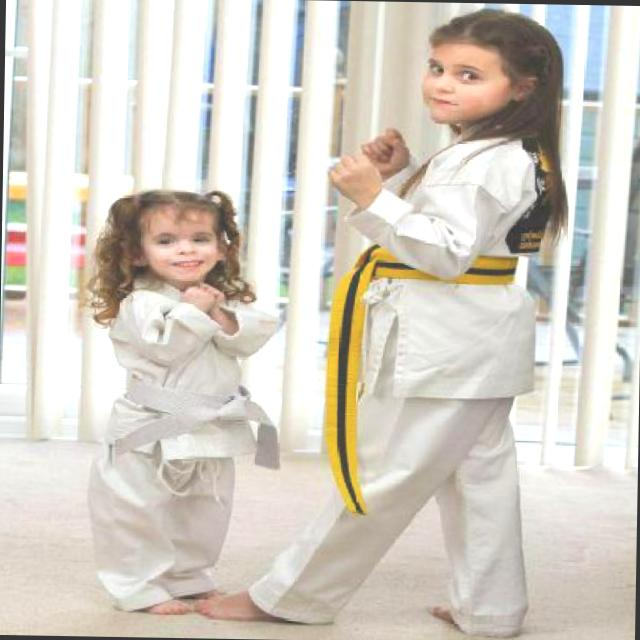Person: (272, 0, 590, 626), (53, 177, 296, 621)
